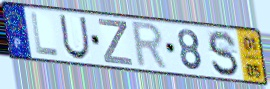8: (177, 28, 205, 73)
L: (29, 11, 61, 58)
R: (131, 20, 170, 72)
S: (206, 29, 241, 79)
U: (58, 13, 92, 61)
Z: (97, 17, 135, 68)
